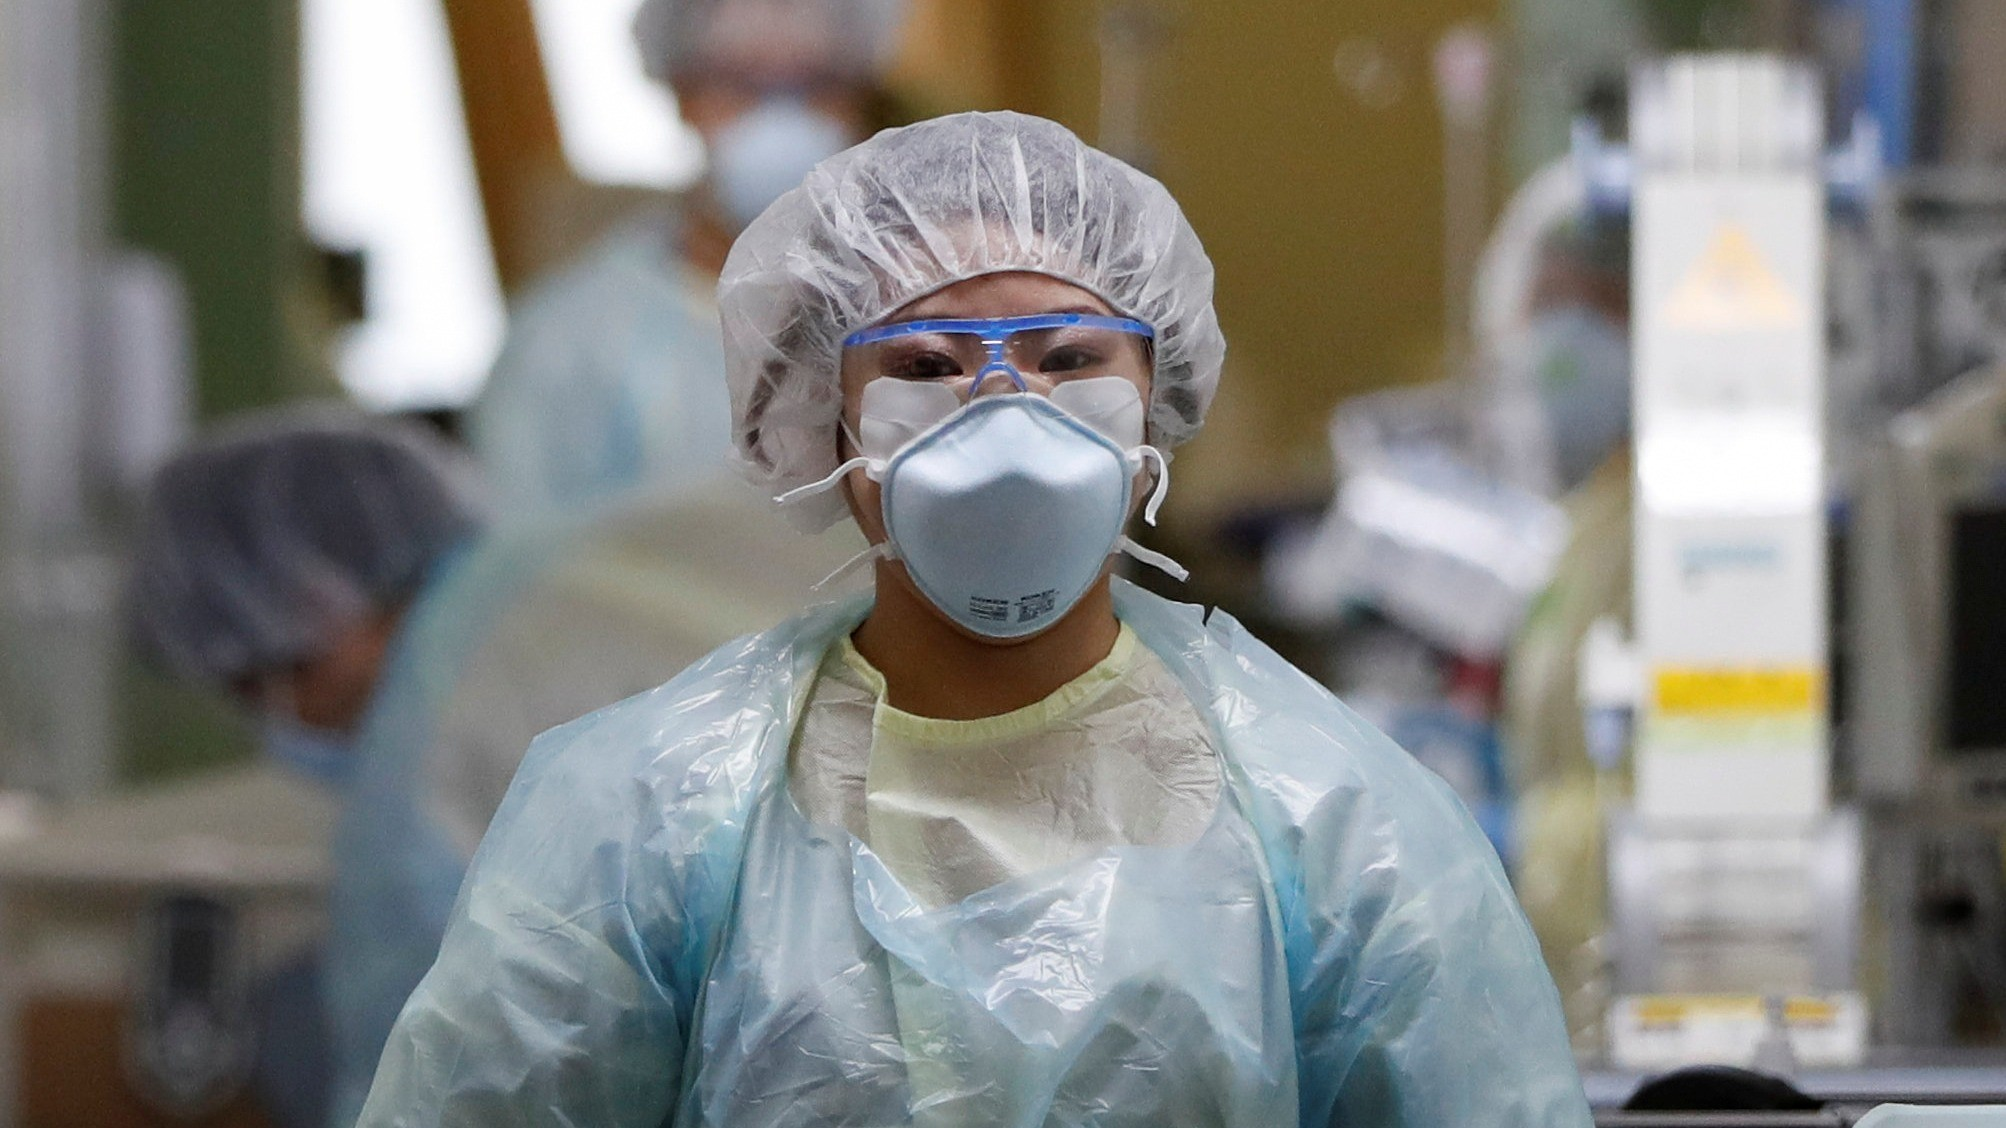Coverall: (346, 572, 1602, 1128)
Goggles: (828, 311, 1154, 470)
with_mask: (869, 337, 1137, 635)
